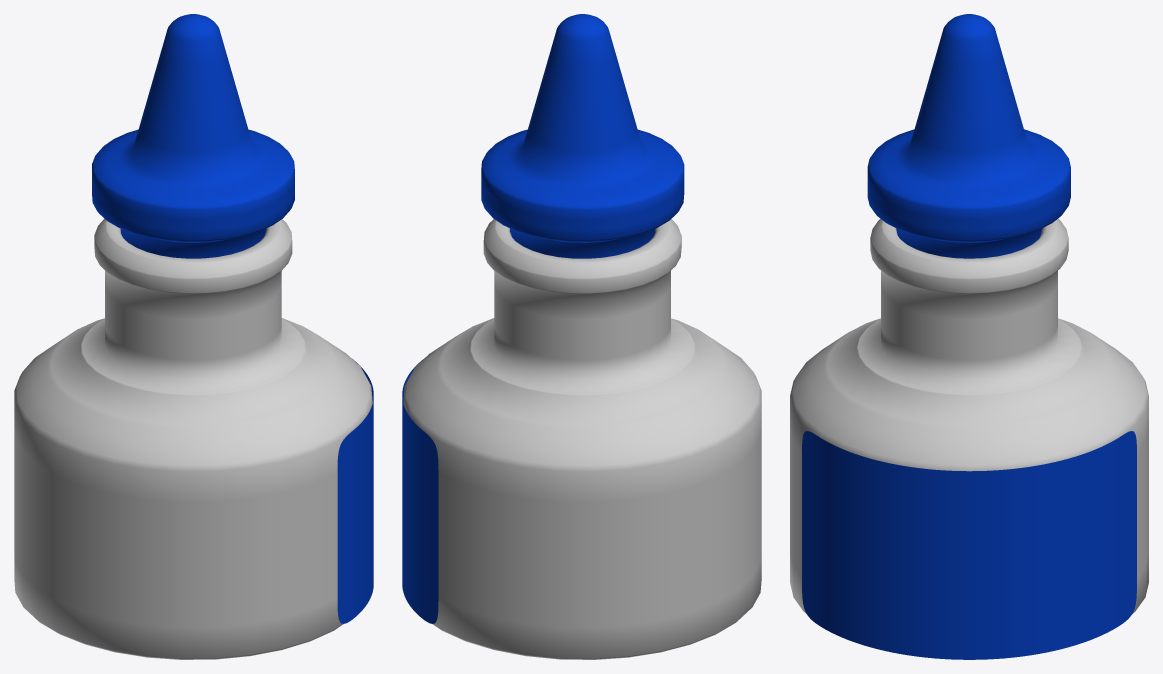
The model's file is Ink bottle.fbx.
3 renders of one model, left to right at view 1: azimuth 30°, elevation 25°; view 2: azimuth 150°, elevation 25°; view 3: azimuth 270°, elevation 25°, orthographic.
Parts seen in each view (by area): view 1: InkBottle (×2); view 2: InkBottle (×2); view 3: InkBottle (×2).
Boxes of the visible parts, x1=… form: InkBottle (×2): x1=14, y1=14, x2=373, y2=659; InkBottle (×2): x1=402, y1=14, x2=761, y2=659; InkBottle (×2): x1=790, y1=14, x2=1148, y2=659.
Size of the model in its own units: 231 by 402 by 230.
